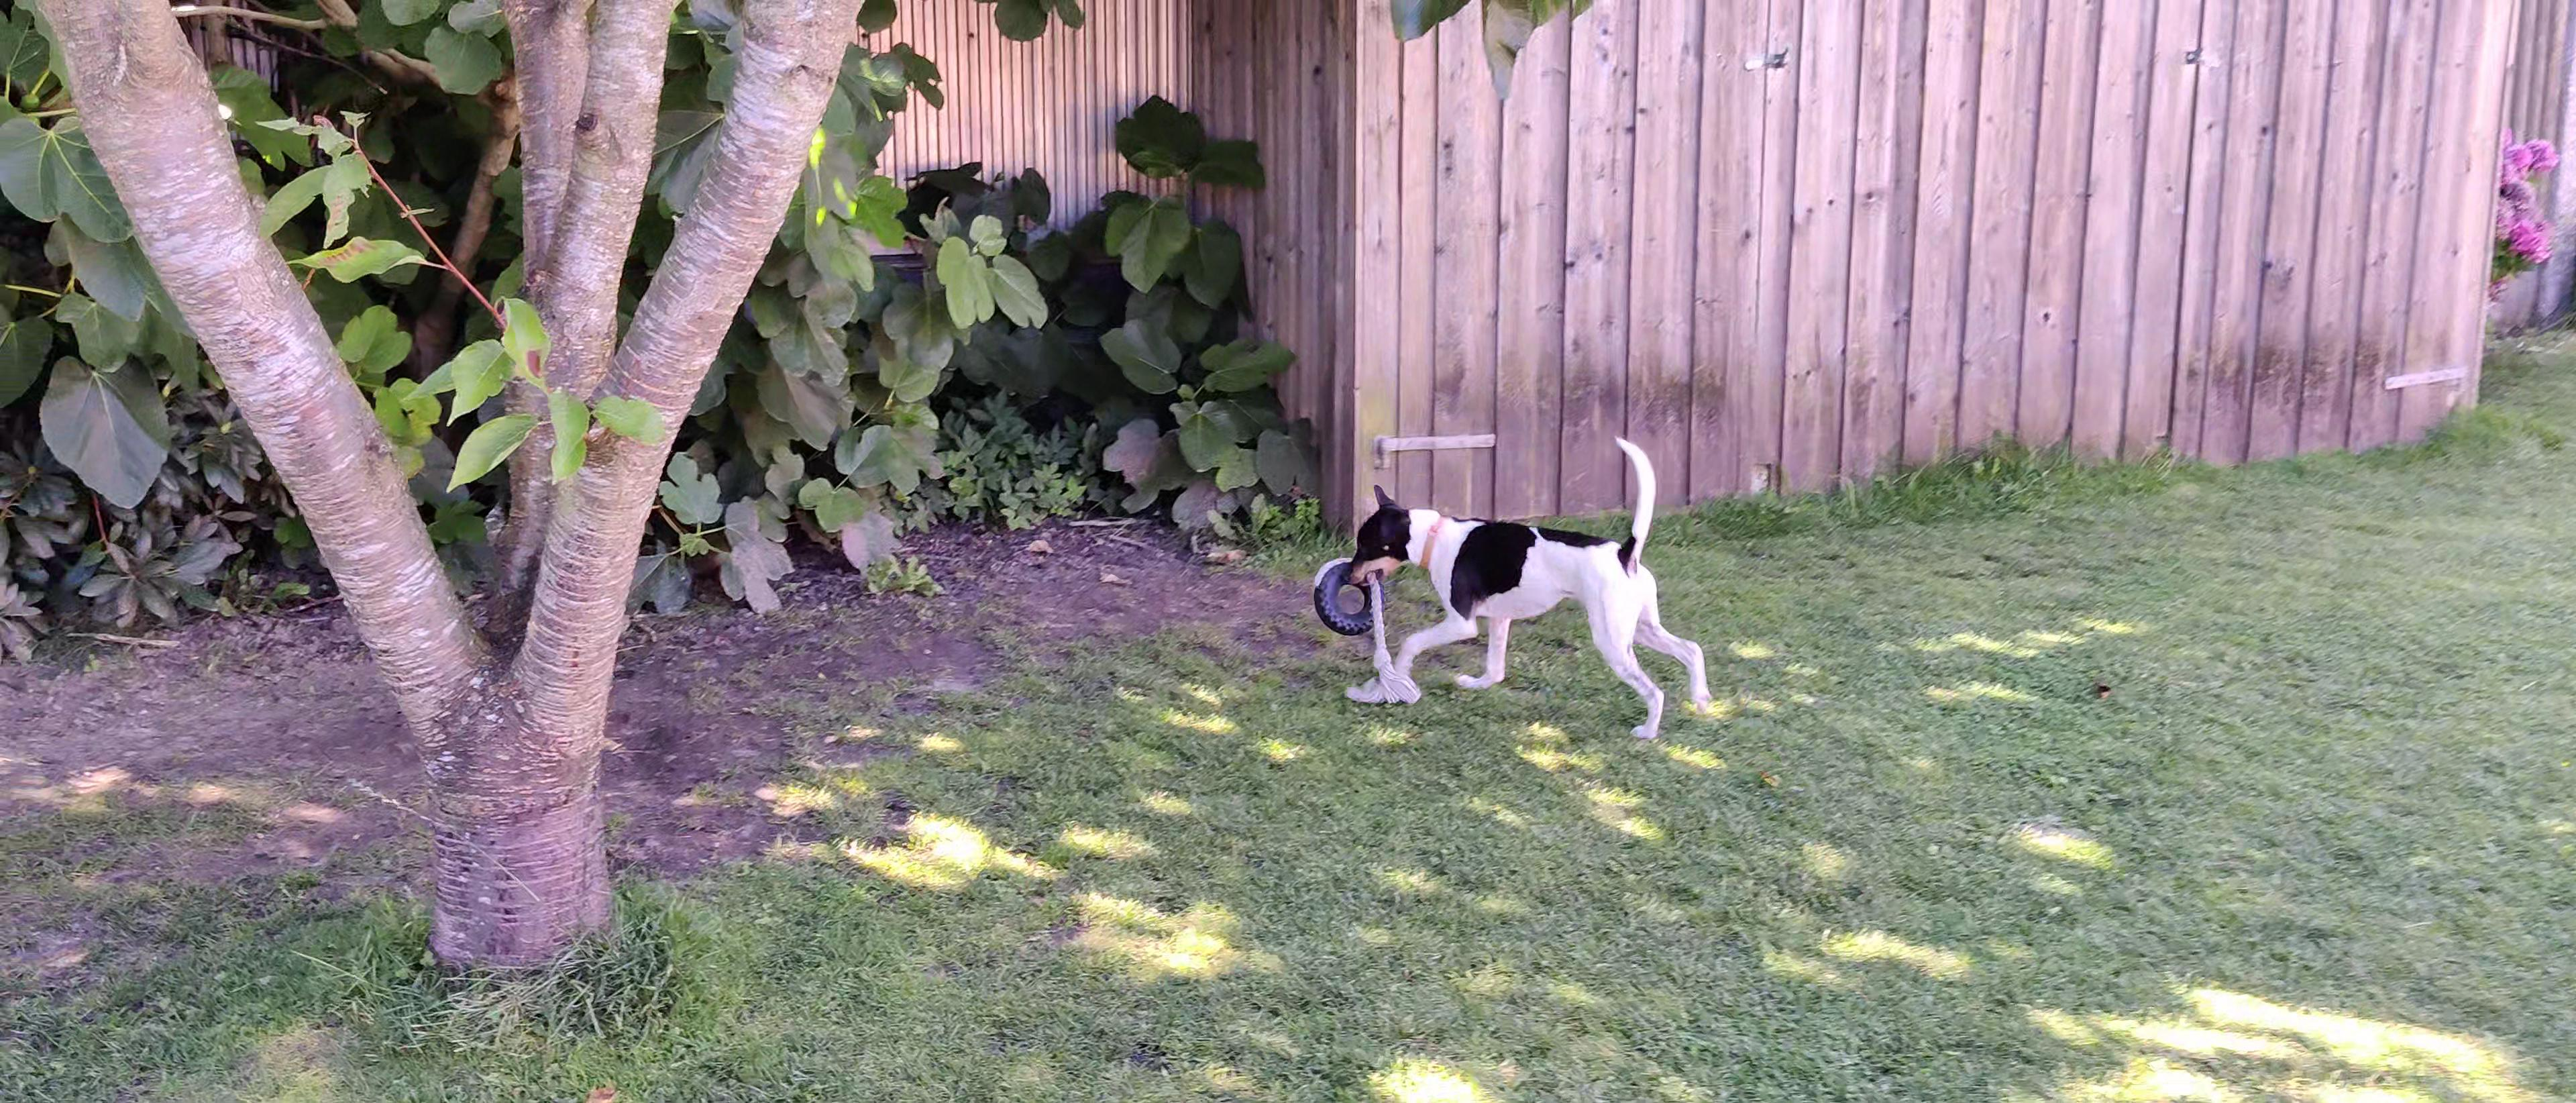Dog: (1334, 434, 1715, 743)
